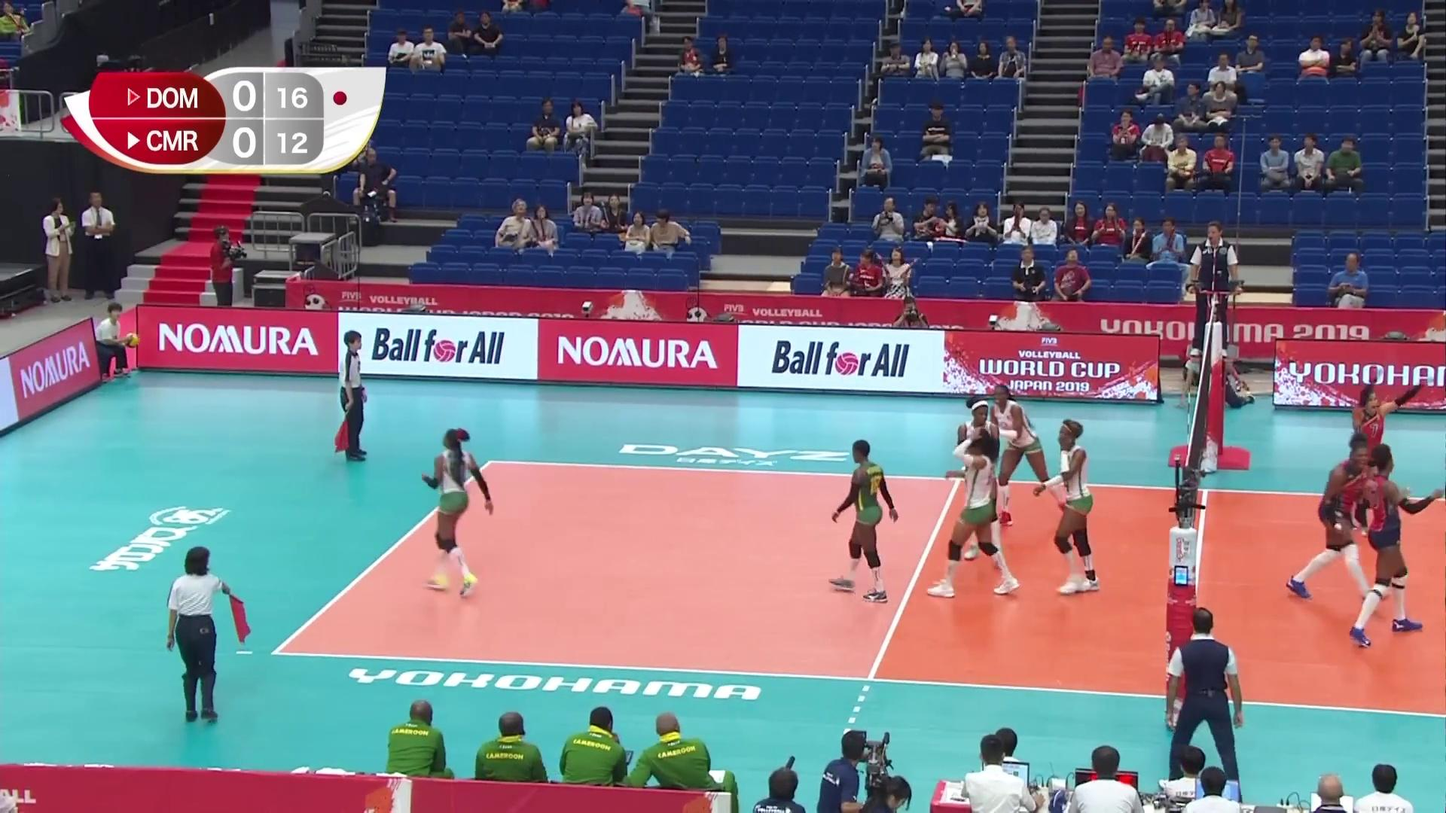player: (1352, 446, 1434, 646), (1287, 441, 1378, 602), (934, 439, 1020, 596), (983, 383, 1073, 524), (424, 428, 492, 597), (828, 439, 898, 601), (1349, 388, 1423, 532), (1047, 419, 1100, 595), (956, 400, 1009, 568)
refree: (1166, 608, 1244, 796), (165, 546, 242, 722), (1191, 221, 1240, 355), (337, 330, 371, 462)
